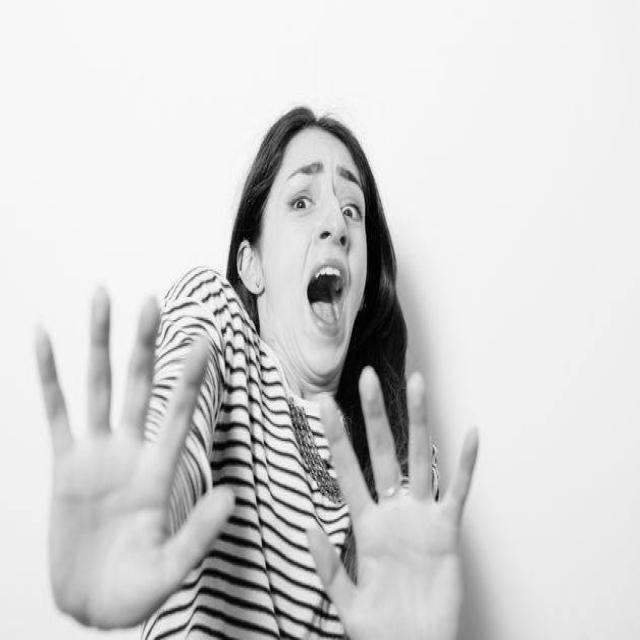stop: (31, 276, 240, 639), (303, 361, 482, 640)
